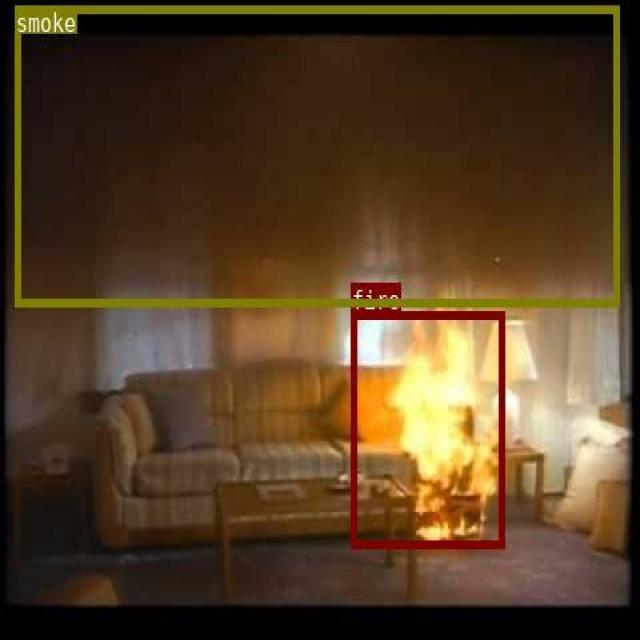fire: (350, 310, 503, 548)
smoke: (14, 4, 618, 306)
